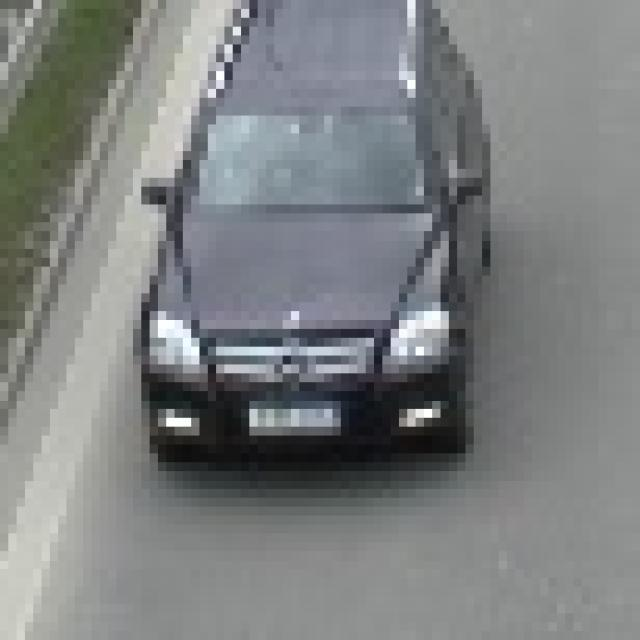SUV: (149, 0, 476, 471)
